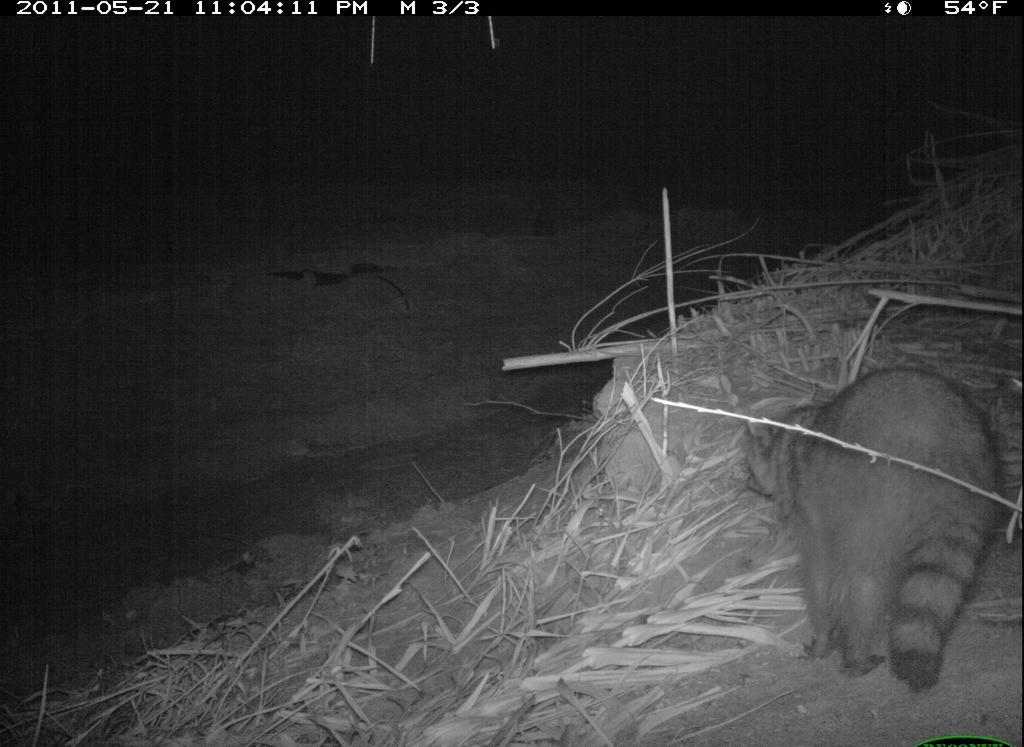raccoon: (735, 356, 1004, 702)
